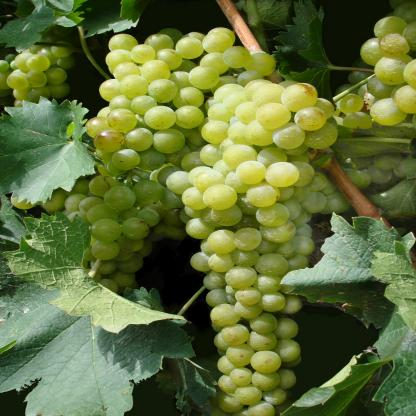--: (73, 8, 416, 415)
